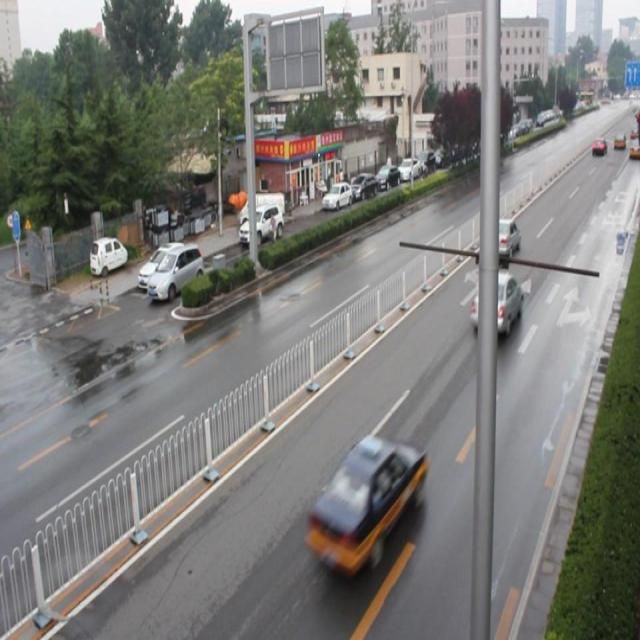car: (308, 434, 426, 574), (469, 269, 520, 340), (481, 217, 520, 256)
